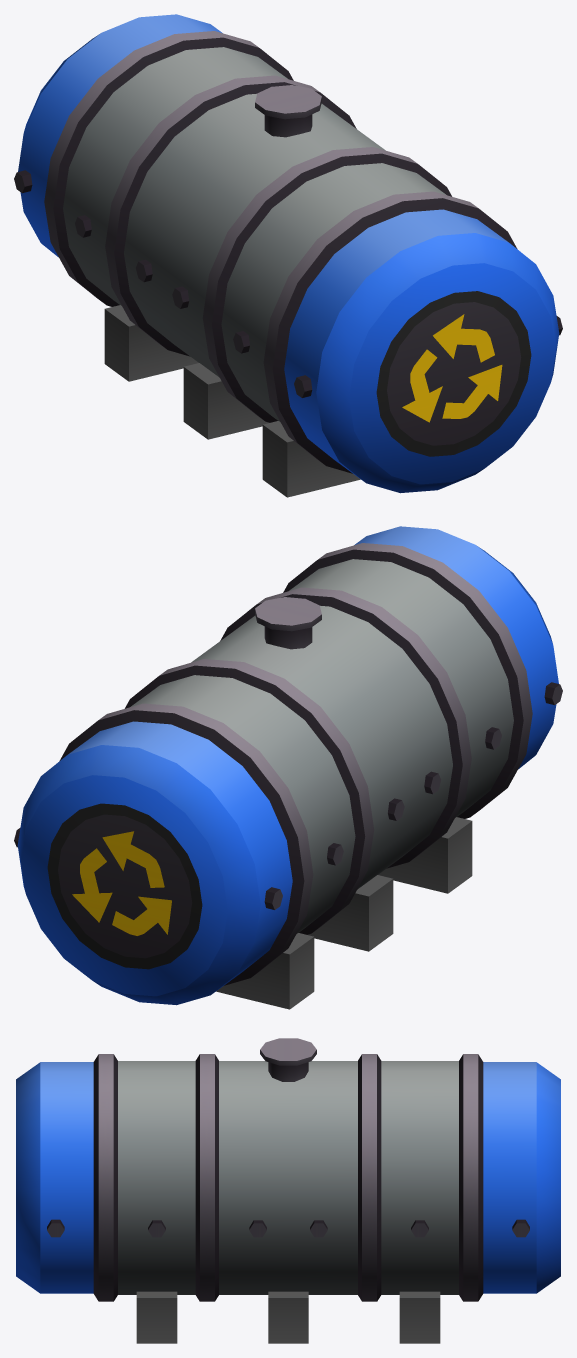
File: Tank_2C.fbx
3 renders of one model, top to bottom at view 1: azimuth 30°, elevation 25°; view 2: azimuth 150°, elevation 25°; view 3: azimuth 270°, elevation 25°, orthographic. The views are drawn at different scales.
Visible parts, largest first — view 1: Tank_2C; view 2: Tank_2C; view 3: Tank_2C.
Part boxes in pixels (x1=…): Tank_2C: x1=14, y1=14, x2=562, y2=497; Tank_2C: x1=14, y1=526, x2=562, y2=1009; Tank_2C: x1=16, y1=1038, x2=560, y2=1343.
Bounding box in the file's own units: 2.47 × 2.8 × 5.43.
